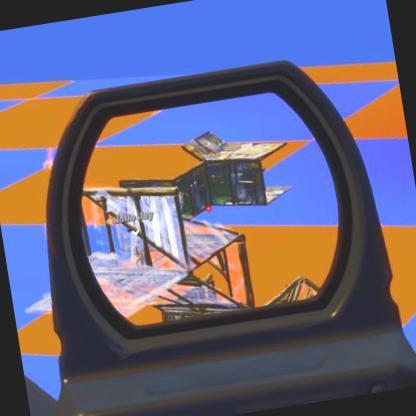person: (134, 236, 147, 264)
